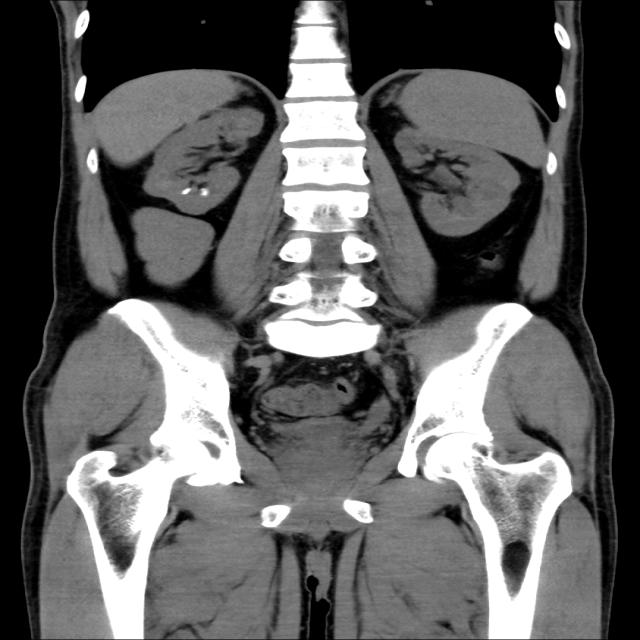kidneystone: (182, 189, 211, 197)
